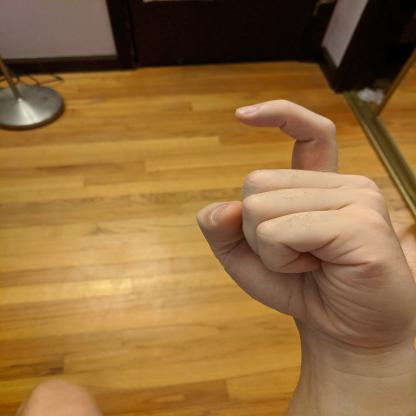X: (191, 95, 416, 350)
